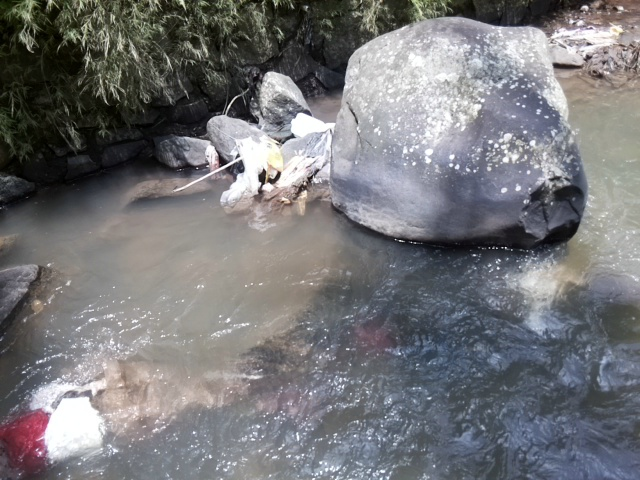Sampah_Plastik: (1, 358, 132, 480), (231, 134, 316, 211)
